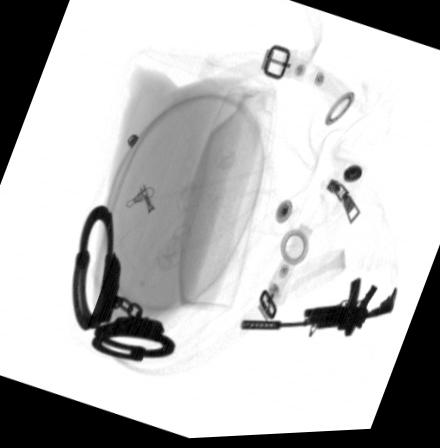Gun: (238, 282, 397, 342)
HandCuffs: (67, 202, 174, 362)
